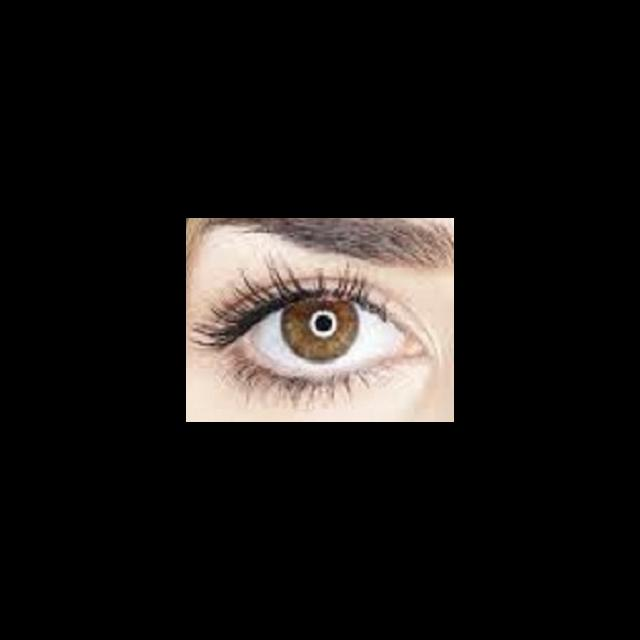eye: (239, 296, 401, 370)
iris: (281, 299, 358, 363)
